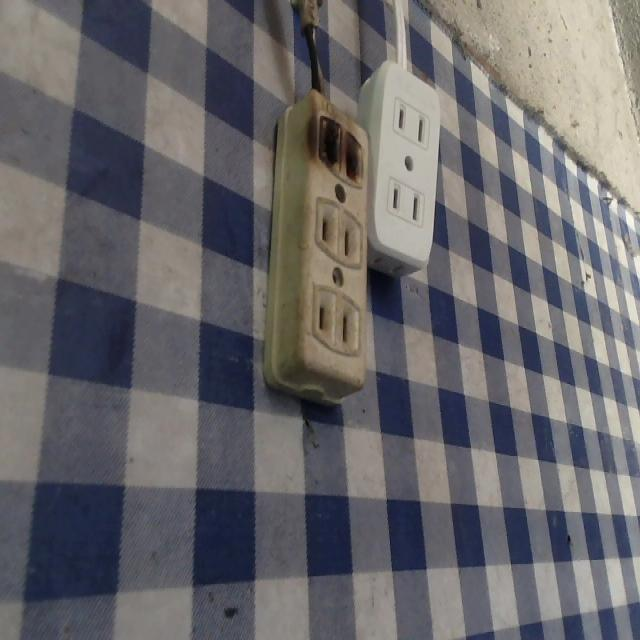-: (309, 109, 370, 187)
